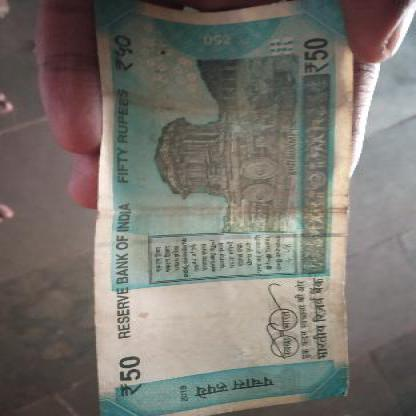New50Back: (96, 0, 354, 415)
